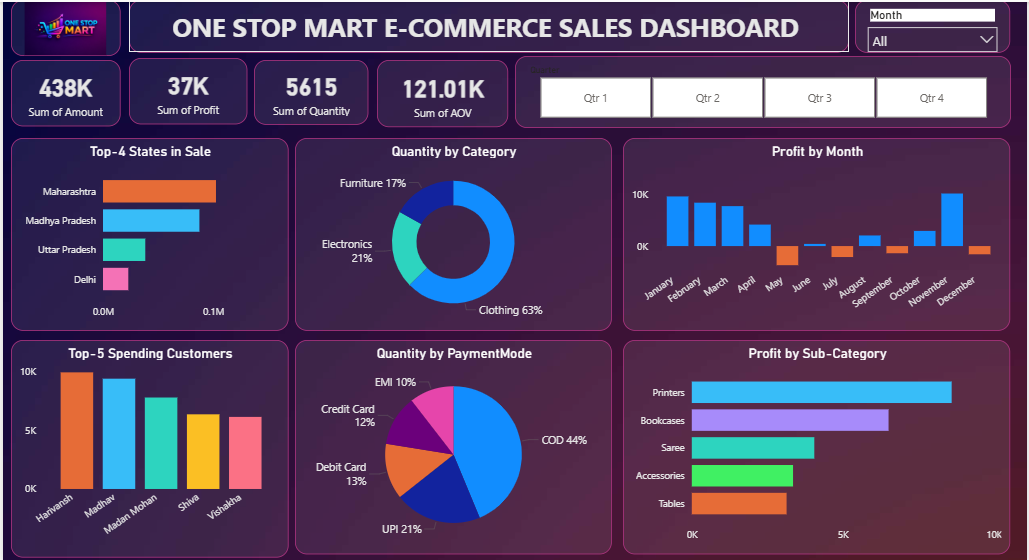

Layout of this report page (visuals, bound fields, positions):
{"tool":"powerbi","page":{"name":"Page 1","canvas":[1280,720],"ordinal":0},"visuals":[{"type":"columnChart","title":"Profit by Month","fields":{"Y":["Sum(Details.Profit)"],"Category":["Orders.Order Date.Variation.Date Hierarchy.Month"]},"box":[775.6,187.8,484.4,241.1],"z":0},{"type":"barChart","title":"Profit by Sub-Category","fields":{"Category":["Details.Sub-Category"],"Y":["Sum(Details.Profit)"]},"box":[775.6,440,484.4,267.8],"z":1000},{"type":"donutChart","title":"Quantity by Category","fields":{"Category":["Details.Category"],"Y":["Sum(Details.Quantity)"]},"box":[365.6,187.8,395.6,241.1],"z":2000},{"type":"pieChart","title":" Quantity by PaymentMode","fields":{"Y":["Sum(Details.Quantity)"],"Category":["Details.PaymentMode"]},"box":[365.6,440,395.6,267.8],"z":3000},{"type":"card","fields":{"Values":["Sum(Details.Amount)"]},"box":[10,90,136.7,83.3],"z":4000},{"type":"card","fields":{"Values":["Sum(Details.Profit)"]},"box":[157.8,87.8,147.8,83.3],"z":5000},{"type":"card","fields":{"Values":["Sum(Details.Quantity)"]},"box":[313.3,90,143.3,81.1],"z":6000},{"type":"card","fields":{"Values":["Sum(Details.AOV)"]},"box":[467.8,90,164.4,84.4],"z":7000},{"type":"barChart","title":"Top-4 States in Sale","fields":{"Category":["Orders.State"],"Y":["Sum(Details.Amount)"]},"box":[10,187.8,346.7,241.1],"z":8000},{"type":"columnChart","title":"Top-5 Spending Customers","fields":{"Category":["Orders.CustomerName"],"Y":["Sum(Details.Amount)"]},"box":[10,440,346.7,272.2],"z":9000},{"type":"slicer","fields":{"Values":["Orders.Order Date.Variation.Date Hierarchy.Quarter"]},"box":[640,85.6,620,90],"z":10000},{"type":"slicer","fields":{"Values":["Orders.Order Date.Variation.Date Hierarchy.Month"]},"box":[1065.6,14.4,194.4,65.6],"z":11000},{"type":"textbox","box":[157.8,14.4,900,65.6],"z":12000},{"type":"image","box":[10,14.4,136.7,70],"z":13000}]}

Visuals, with their boxes on the page's 1280x720 design canvas (x1, y1, x2, y2). These are canvas units, not pixel positions in the 1029x560 screenshot, which may show the page scaled, cropped or inside an application window:
"Profit by Month" columnChart: 776,188,1260,429
"Profit by Sub-Category" barChart: 776,440,1260,708
"Quantity by Category" donutChart: 366,188,761,429
" Quantity by PaymentMode" pieChart: 366,440,761,708
card - Sum(Details.Amount): 10,90,147,173
card - Sum(Details.Profit): 158,88,306,171
card - Sum(Details.Quantity): 313,90,457,171
card - Sum(Details.AOV): 468,90,632,174
"Top-4 States in Sale" barChart: 10,188,357,429
"Top-5 Spending Customers" columnChart: 10,440,357,712
slicer - Orders.Order Date.Variation.Date Hierarchy.Quarter: 640,86,1260,176
slicer - Orders.Order Date.Variation.Date Hierarchy.Month: 1066,14,1260,80
textbox: 158,14,1058,80
image: 10,14,147,84
